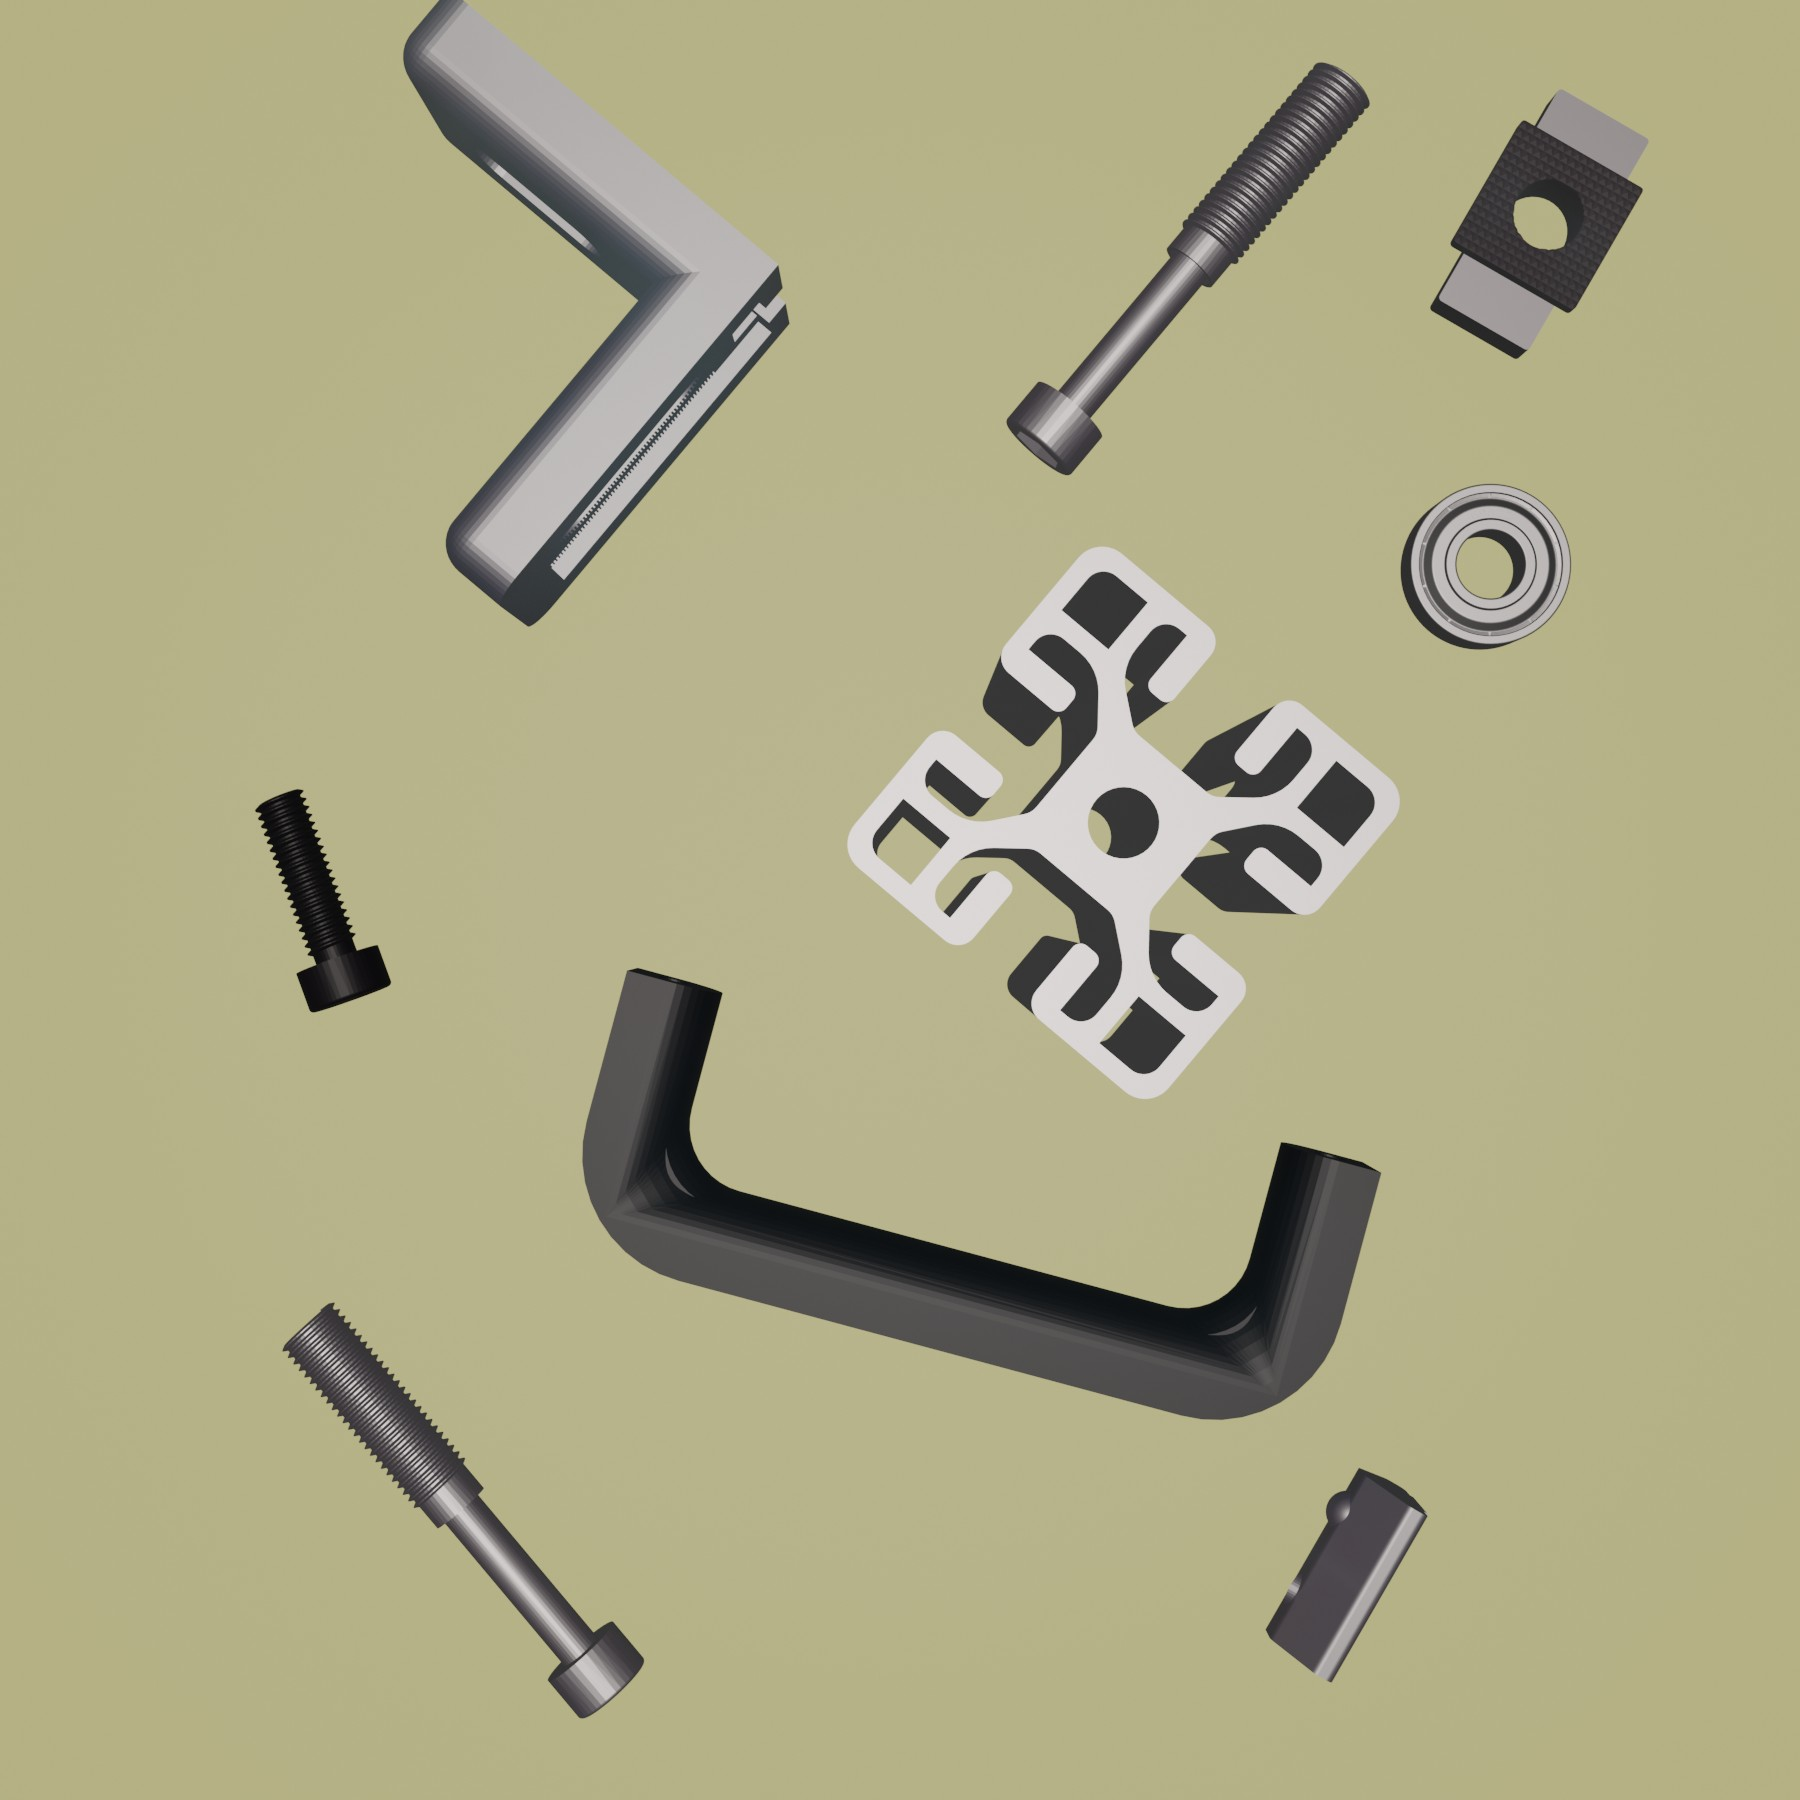Aluminium Extension: (842, 542, 1404, 1104)
Ball Bearing: (1398, 476, 1574, 653)
Multiwinkel: (402, 2, 795, 631)
Pull Handle: (579, 964, 1383, 1423)
Shoulder Socket Head Cap Screw: (275, 1301, 648, 1719), (1004, 59, 1375, 480)
Socket Head Cap Screw: (252, 786, 394, 1015)
T Nut Square: (1427, 86, 1652, 361)
T Spring Nut: (1264, 1462, 1427, 1685)
